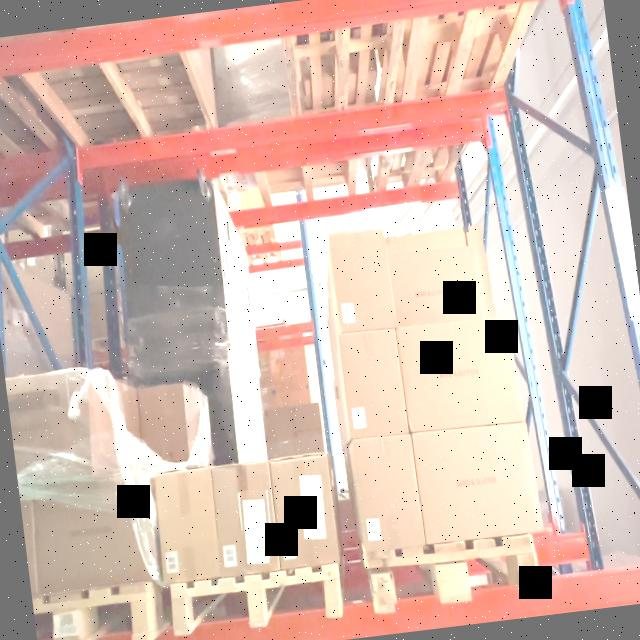box: (411, 422, 544, 544), (396, 317, 523, 432), (32, 473, 149, 594), (354, 435, 425, 551), (211, 461, 280, 578), (269, 454, 339, 569), (155, 469, 223, 584), (389, 246, 483, 326), (340, 329, 408, 437), (329, 228, 397, 331), (137, 385, 189, 463)
